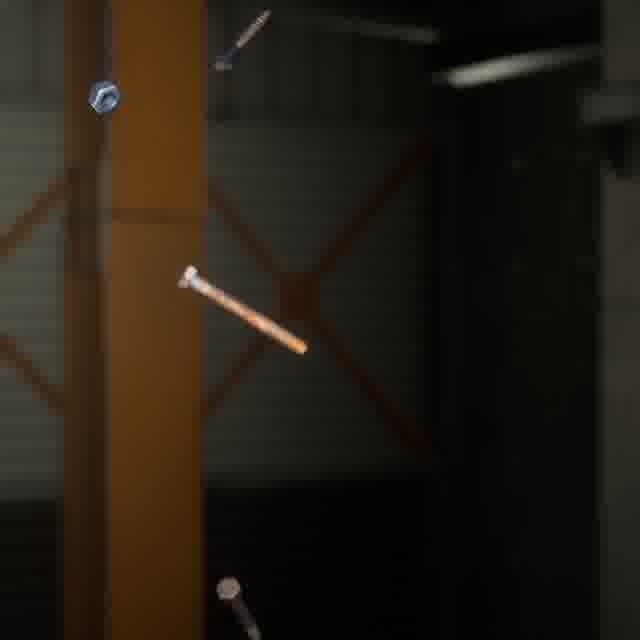bolt: (171, 259, 312, 359), (208, 5, 275, 78), (211, 573, 265, 640)
nut: (83, 75, 126, 119)
